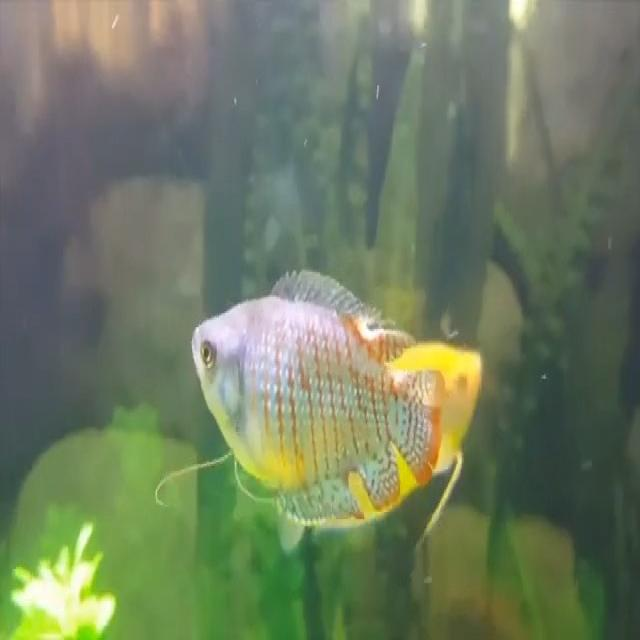fish: (189, 270, 443, 528), (421, 332, 485, 508)
